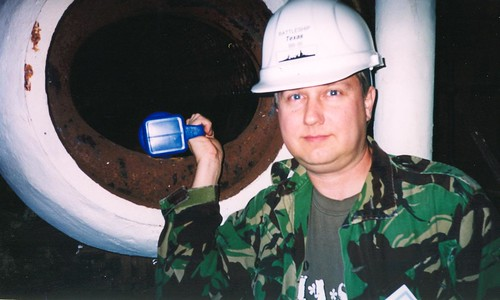person hardhat: (143, 1, 500, 299)
